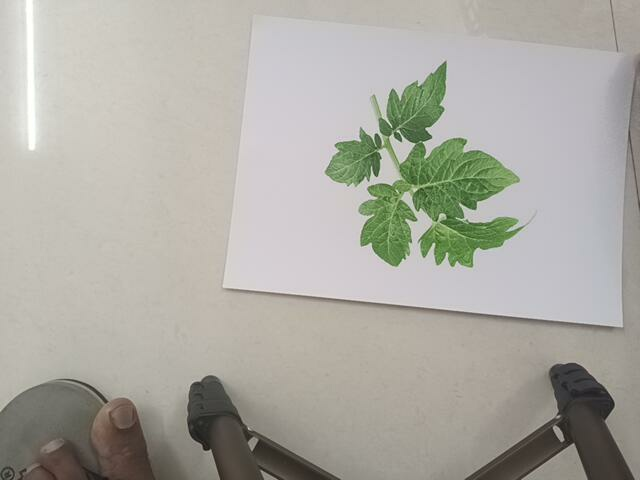Tomamto_Leaf_Healthy: (331, 63, 539, 281)
